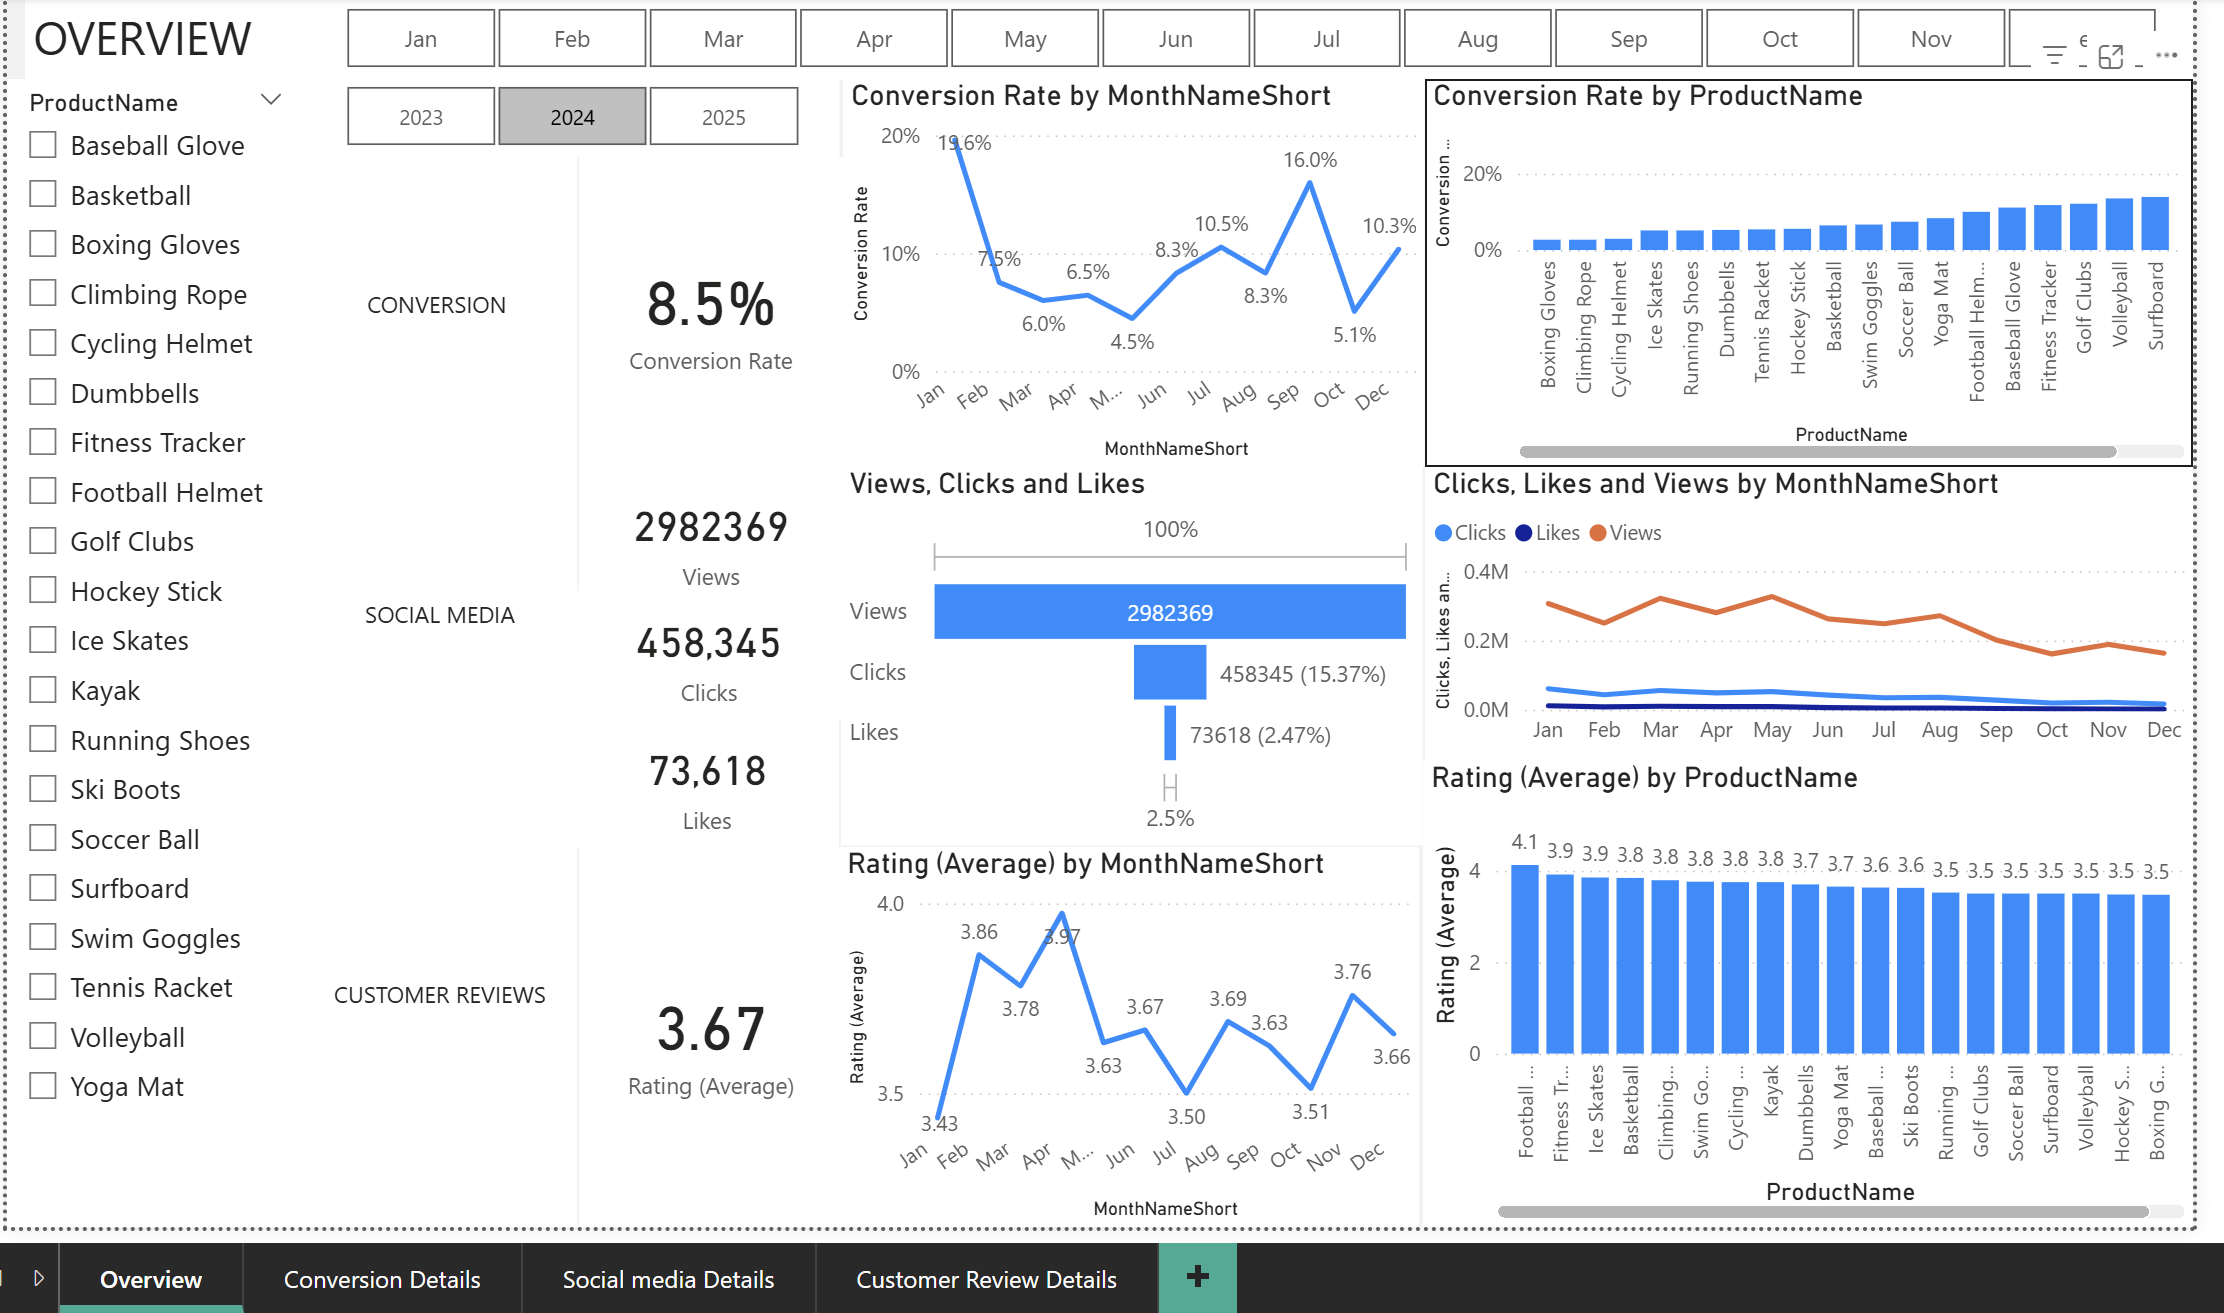

The page's visual inventory and layout, read from the dashboard file:
{"tool":"powerbi","page":{"name":"Overview","canvas":[1280,720],"ordinal":0},"visuals":[{"type":"textbox","box":[10.2,0,1269.8,48.4],"z":0},{"type":"slicer","fields":{"Values":["dim_products.ProductName"]},"box":[0,48.4,173.4,673.1],"z":1000},{"type":"textbox","box":[173.3,93.7,160.4,182.6],"z":2000},{"type":"textbox","box":[173.3,275.1,160.4,223.6],"z":3000},{"type":"textbox","box":[173.3,497.6,160.4,223.6],"z":4000},{"type":"card","fields":{"Values":["_Calculations.Conversion Rate"]},"box":[334.8,93.7,154.5,182.6],"z":5000},{"type":"card","fields":{"Values":["_Calculations.Views"]},"box":[334.8,275.1,154.5,85.5],"z":6000},{"type":"card","fields":{"Values":["_Calculations.Clicks"]},"box":[333.7,347.7,154.5,76.1],"z":7000},{"type":"card","fields":{"Values":["_Calculations.Likes"]},"box":[332.5,423.8,154.5,73.8],"z":8000},{"type":"card","fields":{"Values":["_Calculations.Rating (Average)"]},"box":[334.8,497.6,154.5,223.6],"z":9000},{"type":"slicer","fields":{"Values":["Calendar.Year"]},"box":[173.3,45.7,313.8,48],"z":10000},{"type":"slicer","fields":{"Values":["Calendar.MonthNameShort"]},"box":[173.3,0,1108.7,48],"z":11000},{"type":"lineChart","fields":{"Y":["_Calculations.Conversion Rate"],"Category":["Calendar.MonthNameShort"]},"box":[489.4,48,340.7,227.1],"z":12000},{"type":"clusteredColumnChart","fields":{"Y":["_Calculations.Conversion Rate"],"Category":["dim_products.ProductName"]},"box":[830,48,449.6,227.1],"z":13000},{"type":"lineChart","fields":{"Category":["Calendar.MonthNameShort"],"Y":["_Calculations.Clicks","_Calculations.Likes","_Calculations.Views"]},"box":[830,275.1,450.7,172.1],"z":14000},{"type":"funnel","fields":{"Y":["_Calculations.Views","_Calculations.Clicks","_Calculations.Likes"]},"box":[488.2,275.1,340.7,221.3],"z":15000},{"type":"lineChart","fields":{"Y":["_Calculations.Rating (Average)"],"Category":["Calendar.MonthNameShort"]},"box":[487,497.6,339.5,222.4],"z":16000},{"type":"clusteredColumnChart","fields":{"Category":["dim_products.ProductName"],"Y":["_Calculations.Rating (Average)"]},"box":[828.9,447.2,450.7,272.8],"z":17000}]}

Visuals, with their boxes on the page's 1280x720 design canvas (x1, y1, x2, y2). These are canvas units, not pixel positions in the 2224x1313 screenshot, which may show the page scaled, cropped or inside an application window:
textbox: bbox=(10, 0, 1280, 48)
slicer - dim_products.ProductName: bbox=(0, 48, 173, 722)
textbox: bbox=(173, 94, 334, 276)
textbox: bbox=(173, 275, 334, 499)
textbox: bbox=(173, 498, 334, 721)
card - _Calculations.Conversion Rate: bbox=(335, 94, 489, 276)
card - _Calculations.Views: bbox=(335, 275, 489, 361)
card - _Calculations.Clicks: bbox=(334, 348, 488, 424)
card - _Calculations.Likes: bbox=(332, 424, 487, 498)
card - _Calculations.Rating (Average): bbox=(335, 498, 489, 721)
slicer - Calendar.Year: bbox=(173, 46, 487, 94)
slicer - Calendar.MonthNameShort: bbox=(173, 0, 1282, 48)
lineChart - _Calculations.Conversion Rate x Calendar.MonthNameShort: bbox=(489, 48, 830, 275)
clusteredColumnChart - _Calculations.Conversion Rate x dim_products.ProductName: bbox=(830, 48, 1280, 275)
lineChart - Calendar.MonthNameShort x _Calculations.Clicks: bbox=(830, 275, 1281, 447)
funnel - _Calculations.Views x _Calculations.Clicks: bbox=(488, 275, 829, 496)
lineChart - _Calculations.Rating (Average) x Calendar.MonthNameShort: bbox=(487, 498, 826, 720)
clusteredColumnChart - dim_products.ProductName x _Calculations.Rating (Average): bbox=(829, 447, 1280, 720)
